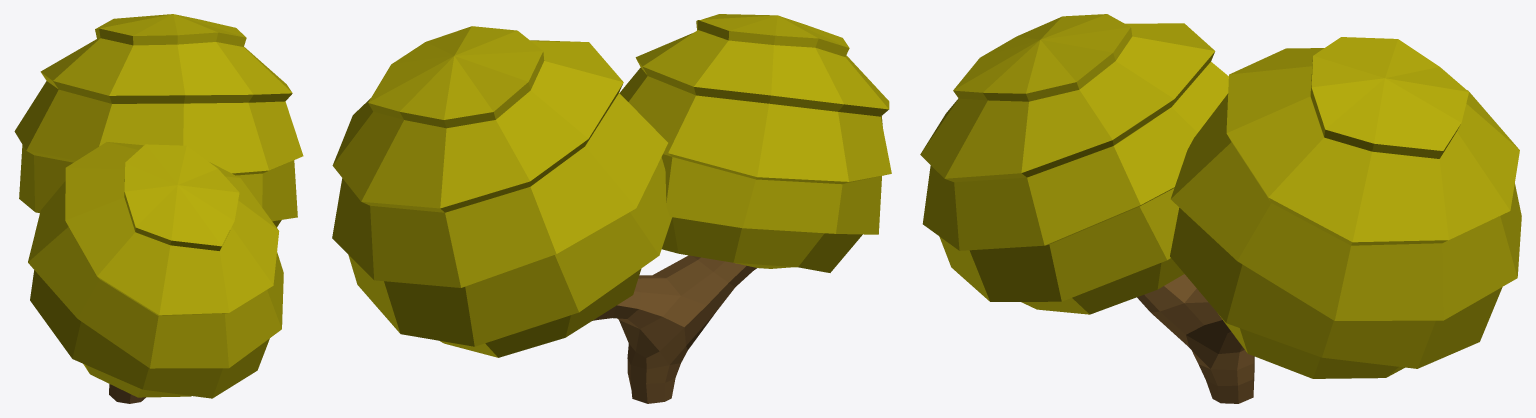
Rendered from Bush001.fbx.
3 views of the same model, side by side, from view 1: azimuth 30°, elevation 25°; view 2: azimuth 150°, elevation 25°; view 3: azimuth 270°, elevation 25° (orthographic). The views are drawn at different scales.
Parts seen in each view (by area): view 1: BushLeave001, BushStem001; view 2: BushLeave001, BushStem001; view 3: BushLeave001, BushStem001.
Part boxes in pixels (box(x1,y1,x2,y2)): BushLeave001: box(14, 14, 303, 398); BushStem001: box(109, 384, 145, 403); BushLeave001: box(332, 14, 891, 357); BushStem001: box(592, 255, 756, 403); BushLeave001: box(920, 14, 1521, 378); BushStem001: box(1137, 274, 1254, 403).
Bounding box in the file's own units: 191 × 172 × 238.
